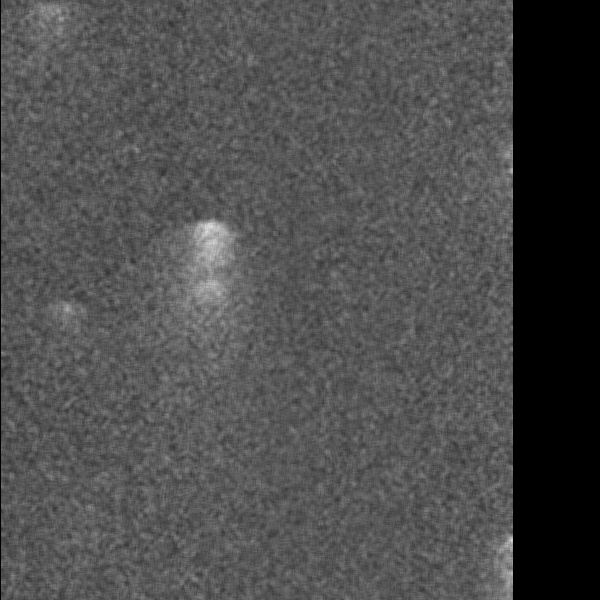spark: (181, 215, 230, 419), (18, 1, 63, 68), (58, 298, 74, 326)
